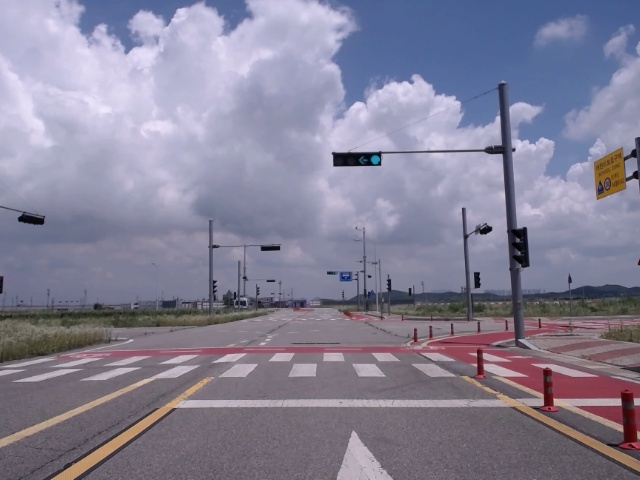all_green_4: (332, 154, 382, 167)
